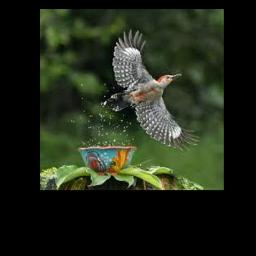Woodpecker: (105, 30, 199, 149)
